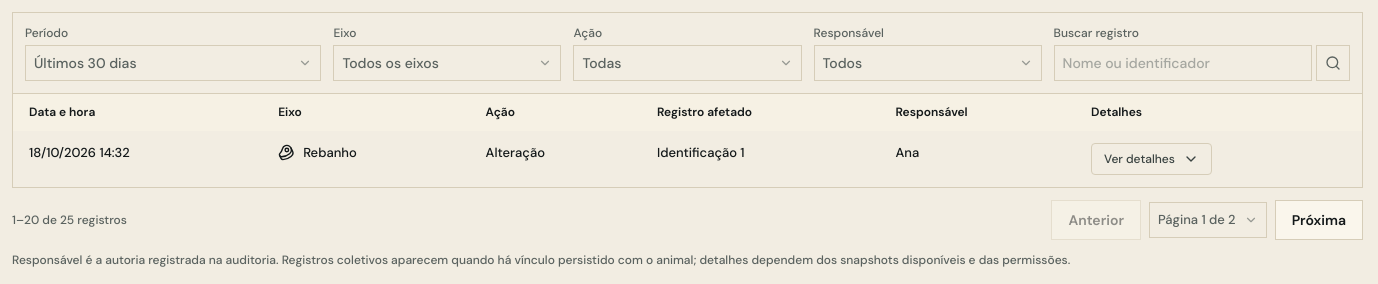
AuditoriaAnimal › reconsulta a última página existente quando o total diminui entre páginas
Expected: the text "Identificação 1" is shown, [641,131,879,187]
Click the button "Próxima". click: click(1319, 220)
box: [1275,200,1363,240]
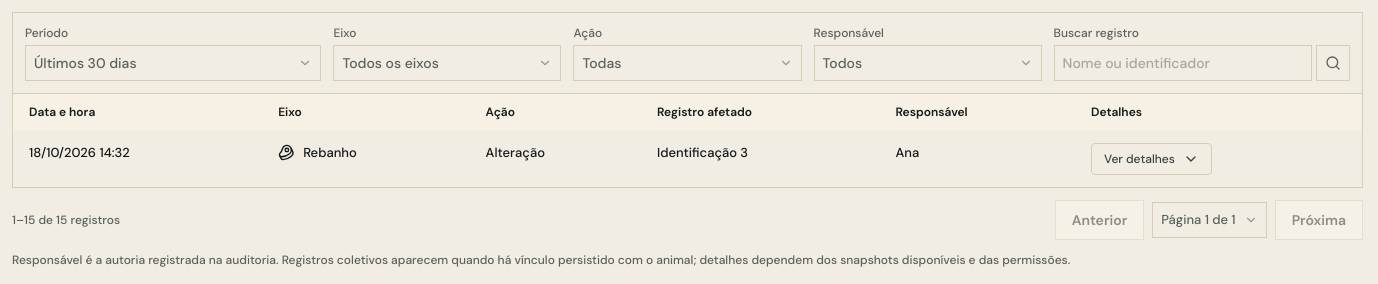
Now the text "Identificação 3" is shown, box [641,131,879,187]
Now the text "1–15 de 15 registros" is shown, box [12,212,120,228]
